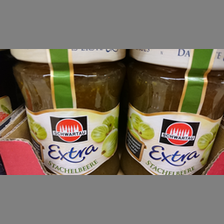jam: (11, 49, 126, 175), (122, 48, 224, 176)
